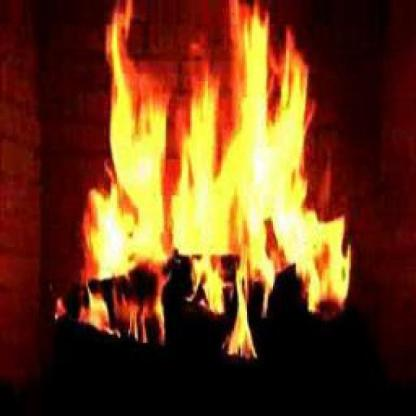fire: (49, 0, 356, 365)
